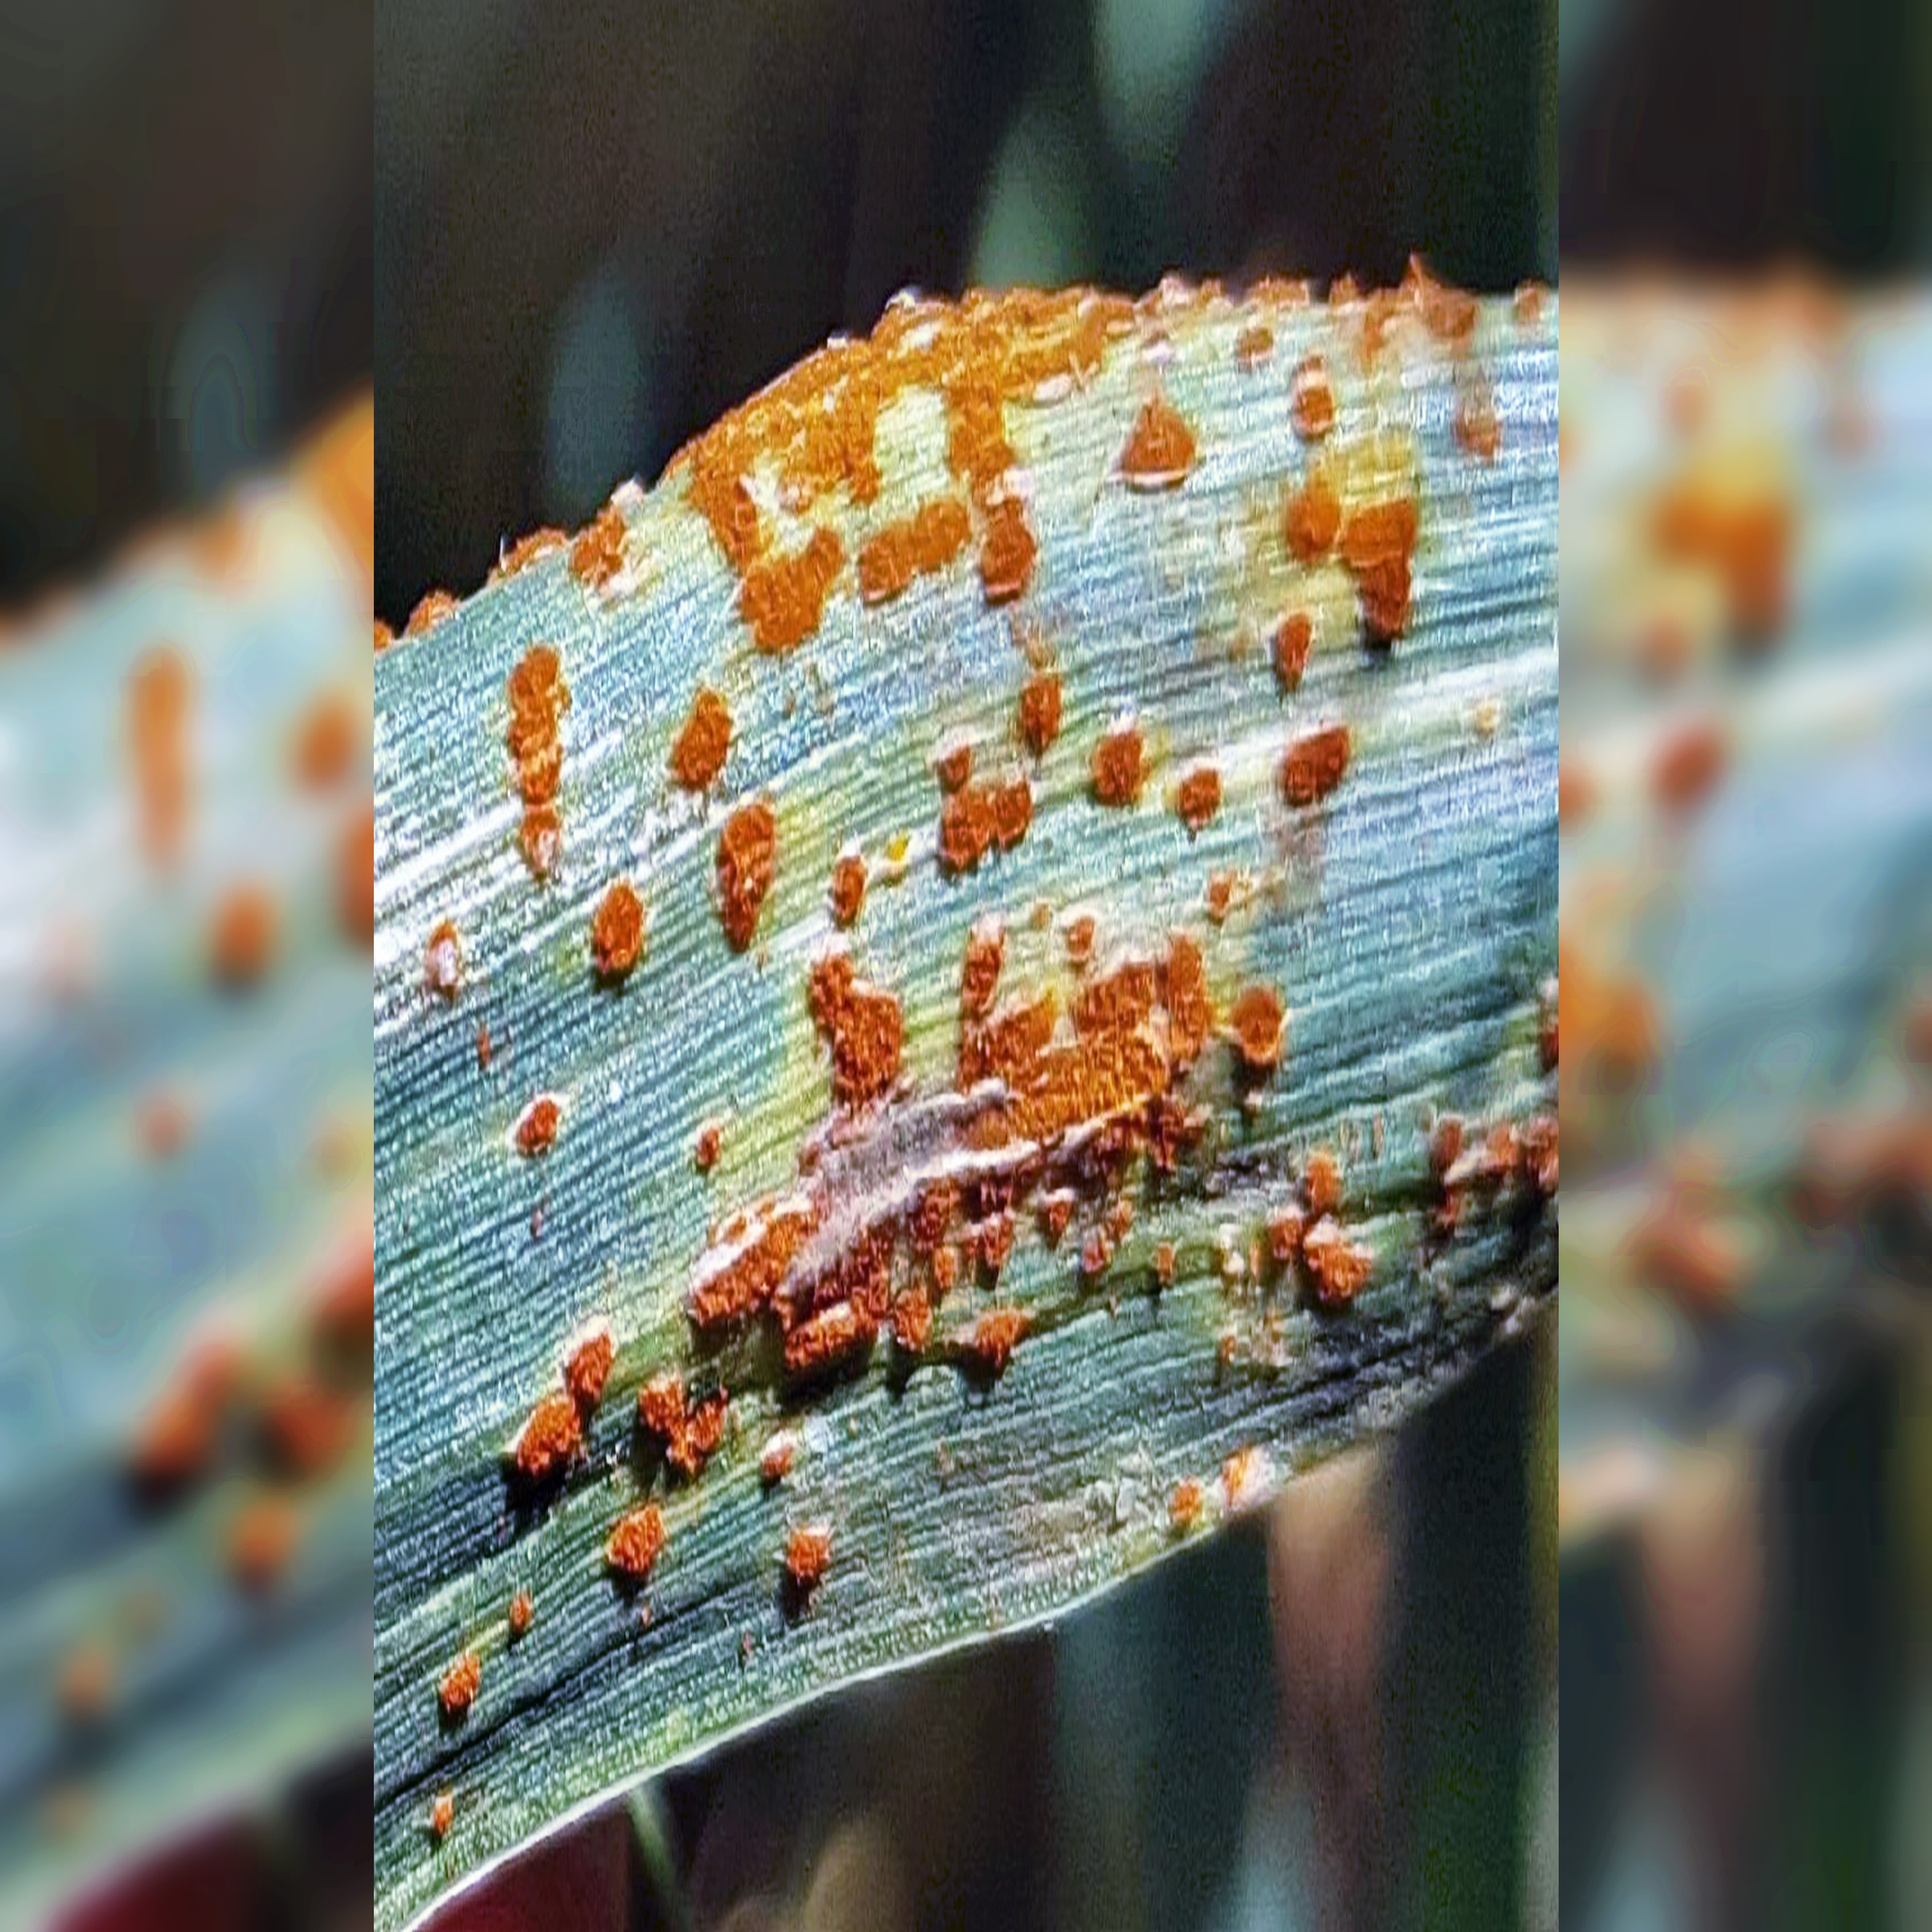Leaf Rust: (428, 152, 1527, 1537)
